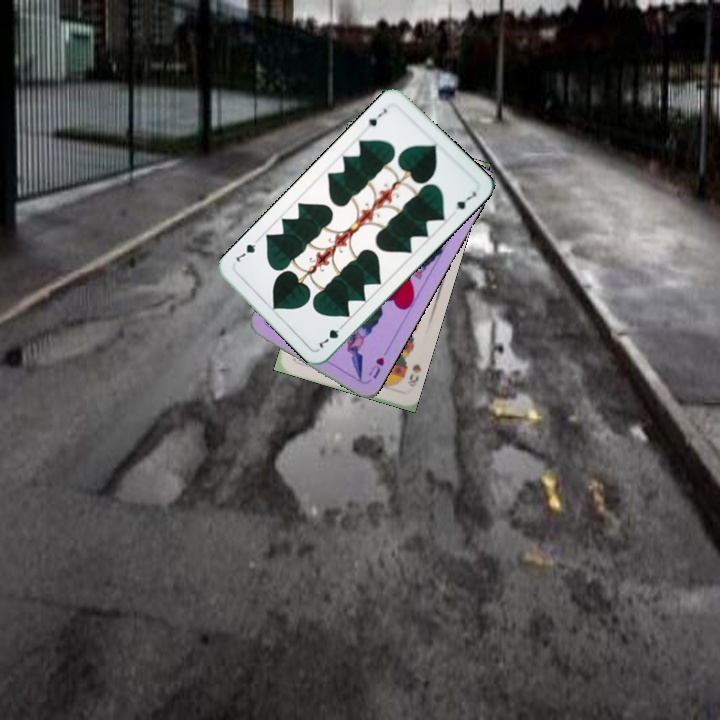G7: (315, 319, 348, 351), (364, 104, 389, 129)
HU: (364, 353, 387, 381)
S8: (404, 360, 424, 389)
